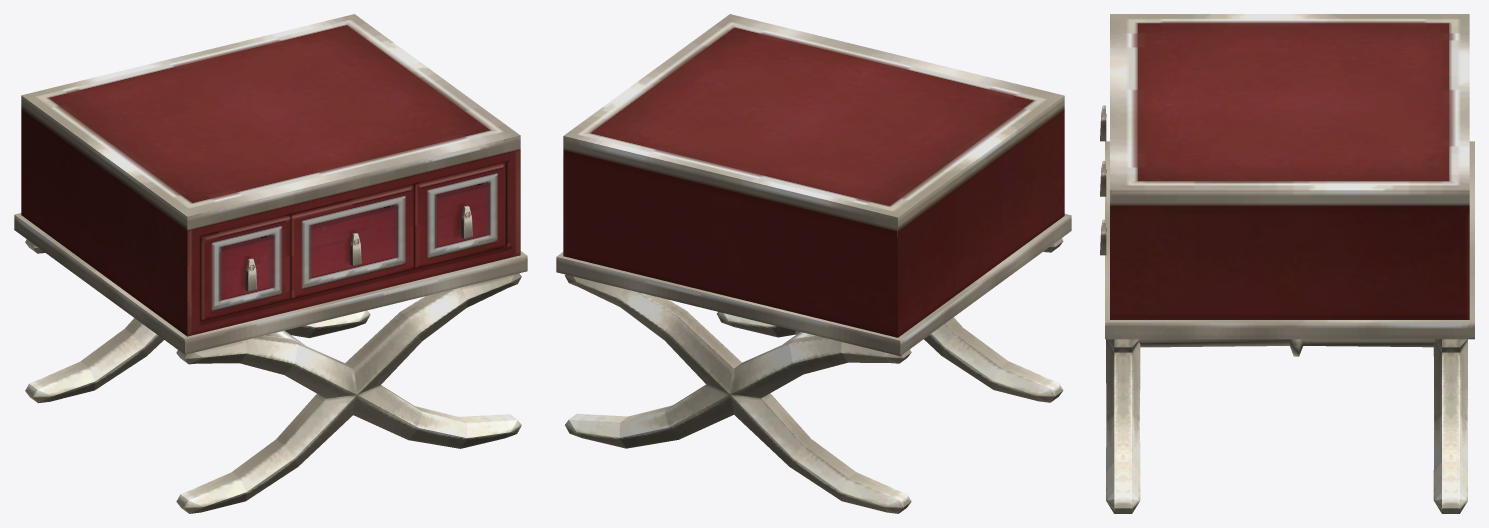
Rendered from furni_0201110_02.FBX.
3 renders of one model, left to right at view 1: azimuth 30°, elevation 25°; view 2: azimuth 150°, elevation 25°; view 3: azimuth 270°, elevation 25°, orthographic. The views are drawn at different scales.
Visible parts, largest first — view 1: furni_0201110_02; view 2: furni_0201110_02; view 3: furni_0201110_02.
Part boxes in pixels (x1=…): furni_0201110_02: x1=14, y1=14, x2=527, y2=513; furni_0201110_02: x1=556, y1=14, x2=1071, y2=513; furni_0201110_02: x1=1100, y1=14, x2=1474, y2=513.
Bounding box in the file's own units: 59.63 × 50.04 × 52.1.
1 material, 1 textured.
